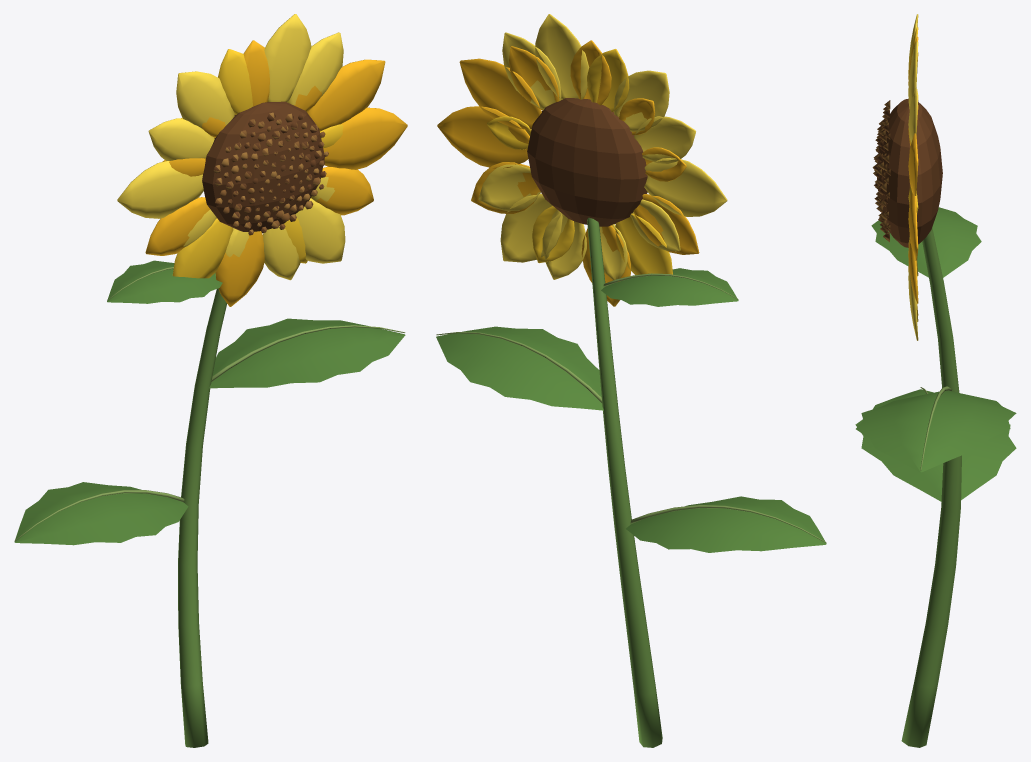
The model's file is sunflower-v2-bloom-0-1.glb.
3 views of the same model, side by side, from view 1: azimuth 30°, elevation 25°; view 2: azimuth 150°, elevation 25°; view 3: azimuth 270°, elevation 25° (orthographic). The views are drawn at different scales.
Visible parts, largest first — view 1: Curved tapered stem; view 2: Curved tapered stem; view 3: Curved tapered stem.
Boxes of the visible parts, bbox=[...] form: Curved tapered stem: bbox=[14, 14, 407, 747]; Curved tapered stem: bbox=[436, 14, 826, 747]; Curved tapered stem: bbox=[855, 14, 1016, 747].
Size of the model in its own units: 0.3338 by 0.5766 by 0.1116.
